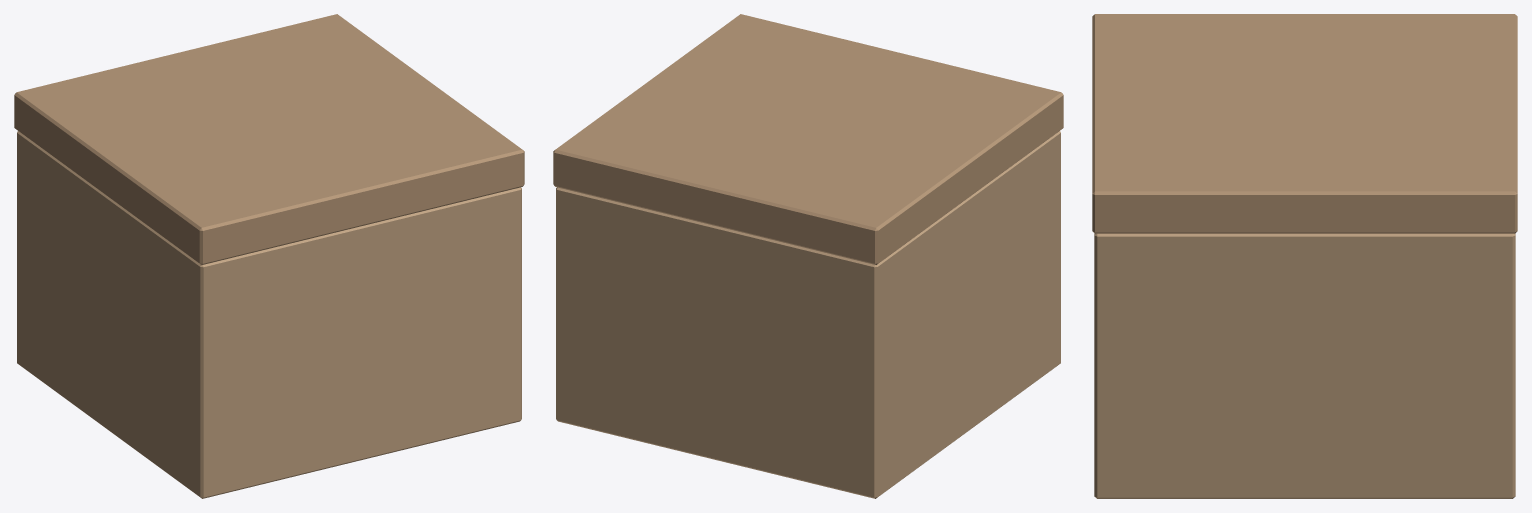
The model's file is prop_proxy_etb_01.glb.
3 views of the same model, side by side, from view 1: azimuth 30°, elevation 25°; view 2: azimuth 150°, elevation 25°; view 3: azimuth 270°, elevation 25° (orthographic). The views are drawn at different scales.
Parts seen in each view (by area): view 1: prop_proxy_etb_01; view 2: prop_proxy_etb_01; view 3: prop_proxy_etb_01.
Boxes of the visible parts, left/top/right/bottom form: prop_proxy_etb_01: left=14, top=14, right=524, bottom=498; prop_proxy_etb_01: left=553, top=14, right=1063, bottom=498; prop_proxy_etb_01: left=1092, top=14, right=1517, bottom=498.
Bounding box in the file's own units: 0.15 × 0.12 × 0.15.
